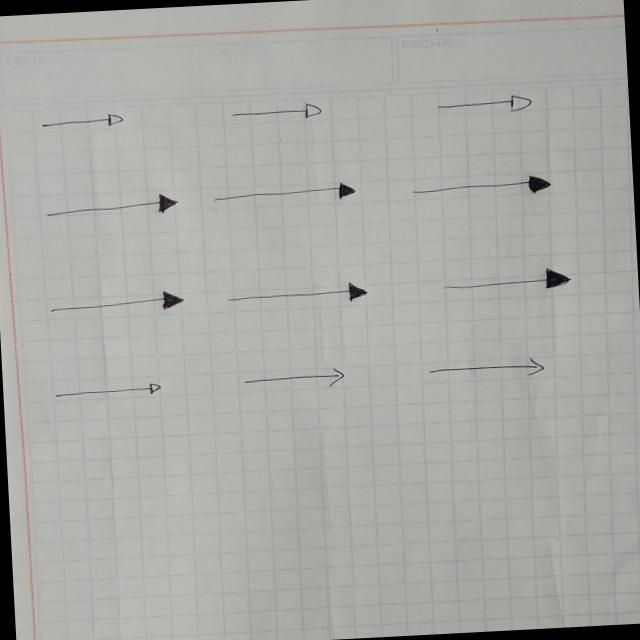arrow_line_right: (410, 169, 552, 203), (213, 178, 359, 210), (228, 278, 371, 310), (42, 190, 180, 223), (46, 288, 187, 320), (441, 265, 572, 297), (424, 355, 547, 384), (432, 90, 536, 118), (239, 367, 348, 392), (228, 99, 327, 126), (52, 380, 163, 400), (38, 110, 126, 132)
